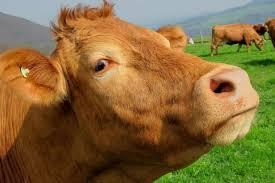cow: (0, 9, 259, 182), (210, 23, 265, 57), (266, 17, 275, 53)
